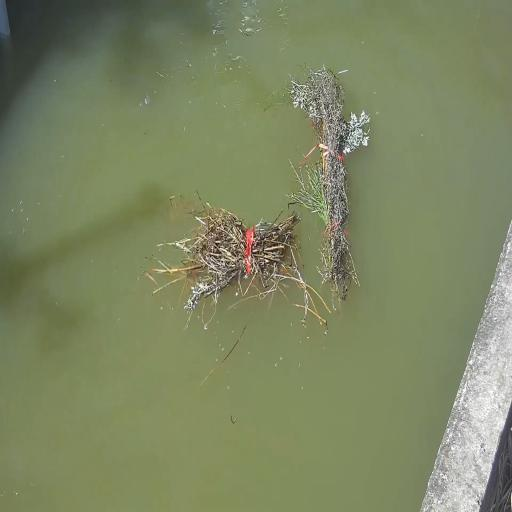twig: (290, 59, 378, 297), (178, 205, 316, 326)
